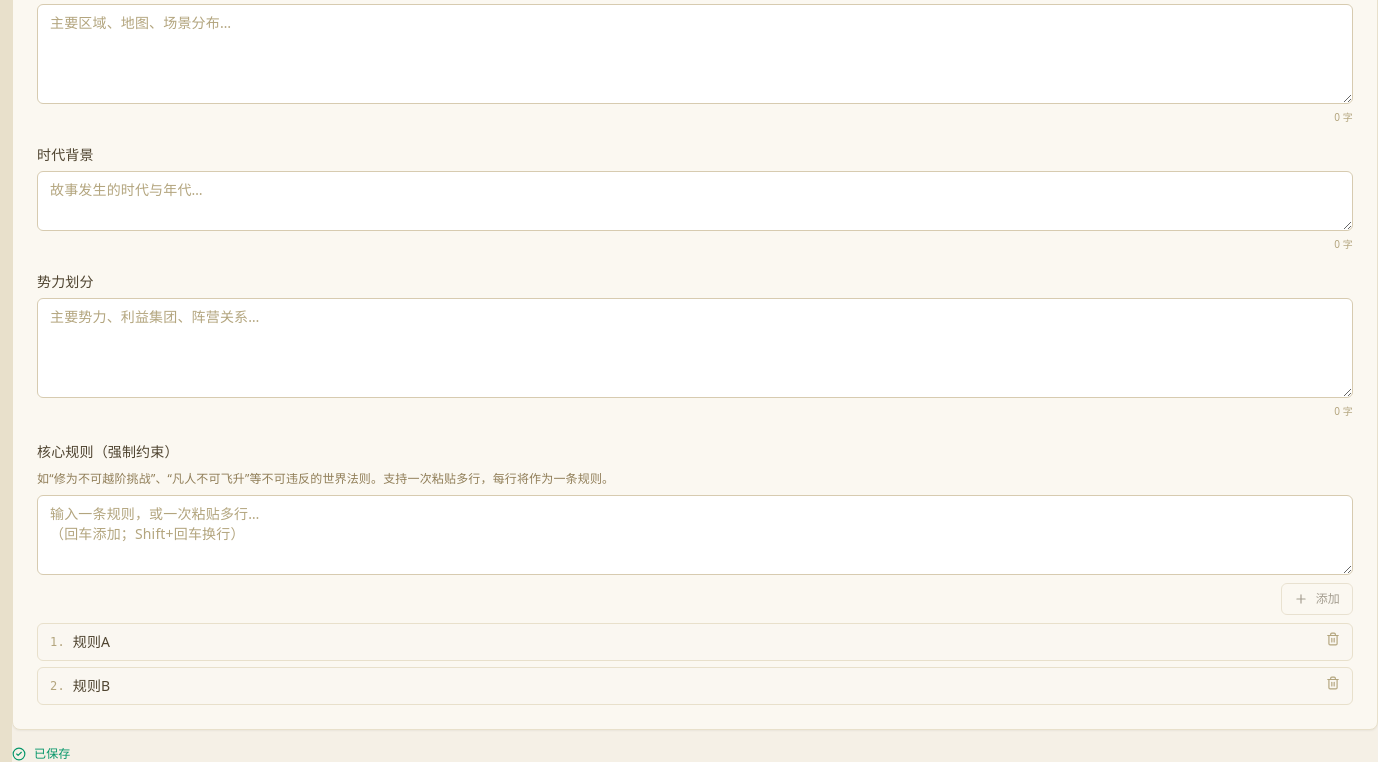
Test: WorldviewEditor › 删除已添加的规则
(page scrolled)
Check: the text "规则A" is shown, box top-left (73, 632), bottom-right (110, 652)
Click the button named "删除规则" in the row of "规则A": (1333, 639) top-left (1326, 632), bottom-right (1340, 646)
(page scrolled)
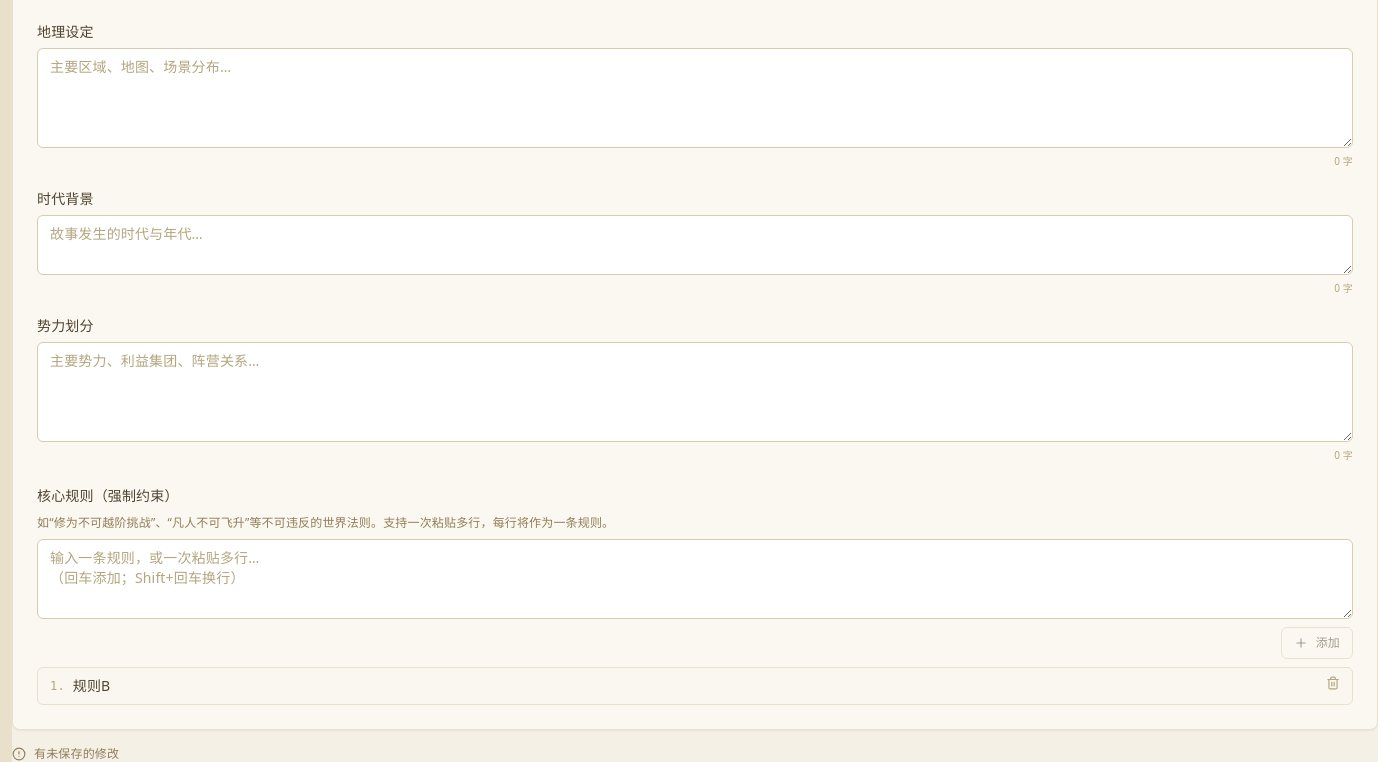
Check: the text "规则B" is shown, box top-left (73, 676), bottom-right (110, 696)
Check: the text "规则A" is gone
Check: the text "有未保存的修改" is shown, box top-left (12, 745), bottom-right (119, 761)
